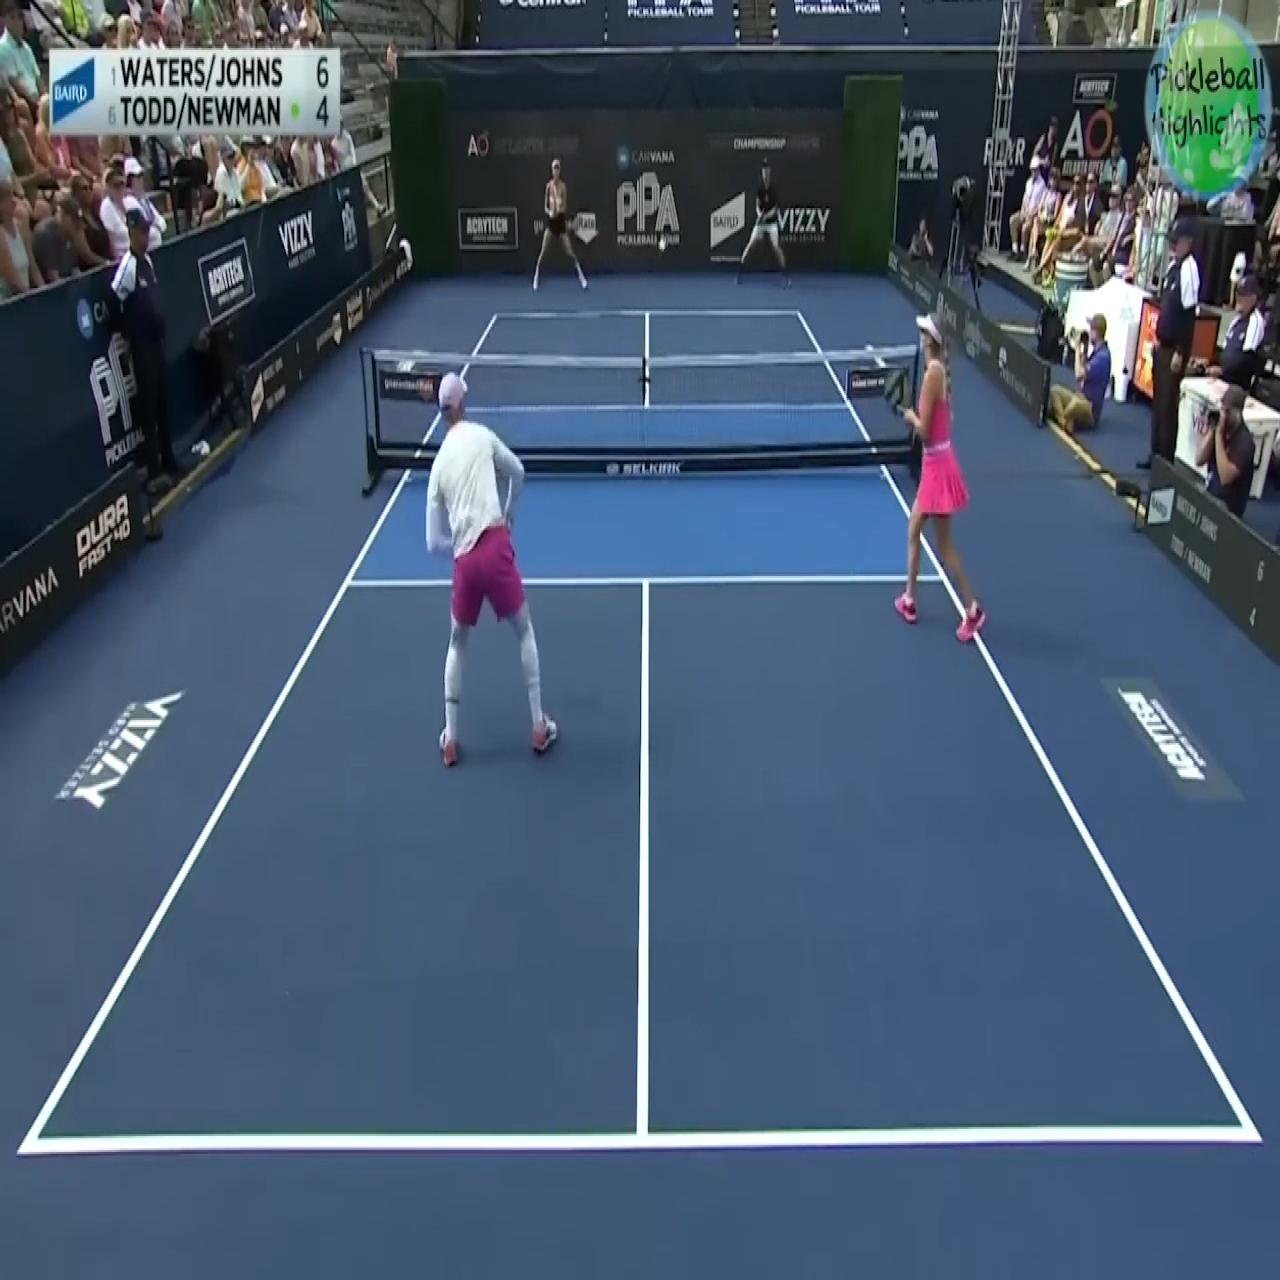Pickleball: (658, 237, 668, 248)
